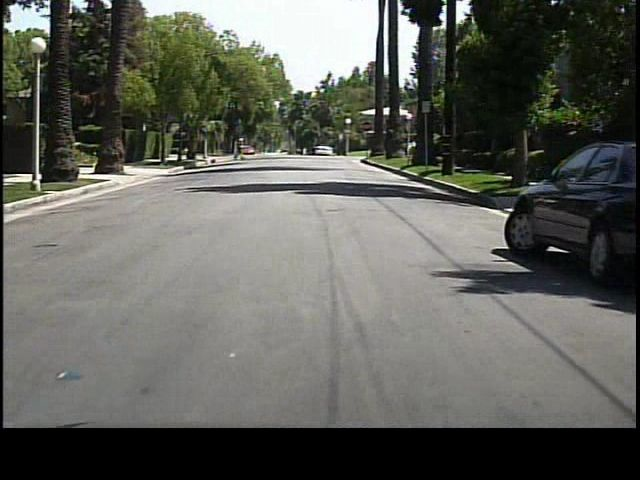person: (233, 132, 248, 163)
